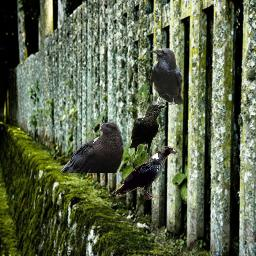Crow: (111, 146, 178, 200), (58, 121, 125, 173), (128, 100, 167, 164), (150, 48, 183, 105)
